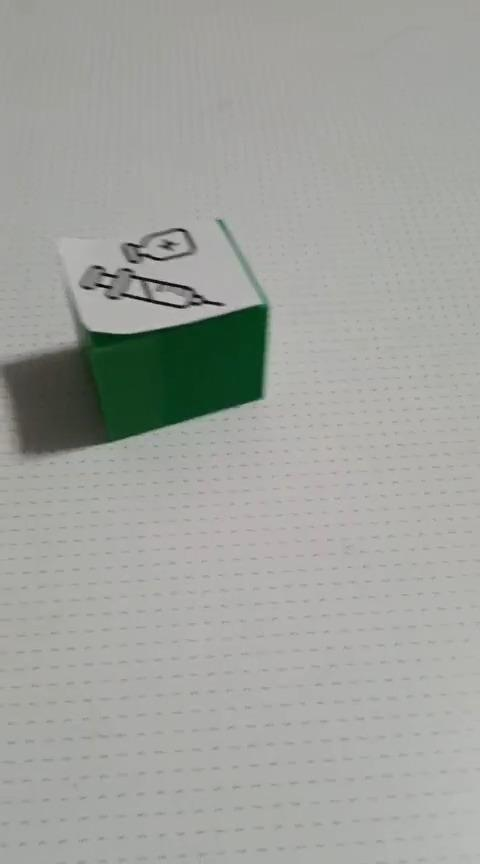antiseptic cream: (53, 214, 270, 441)
